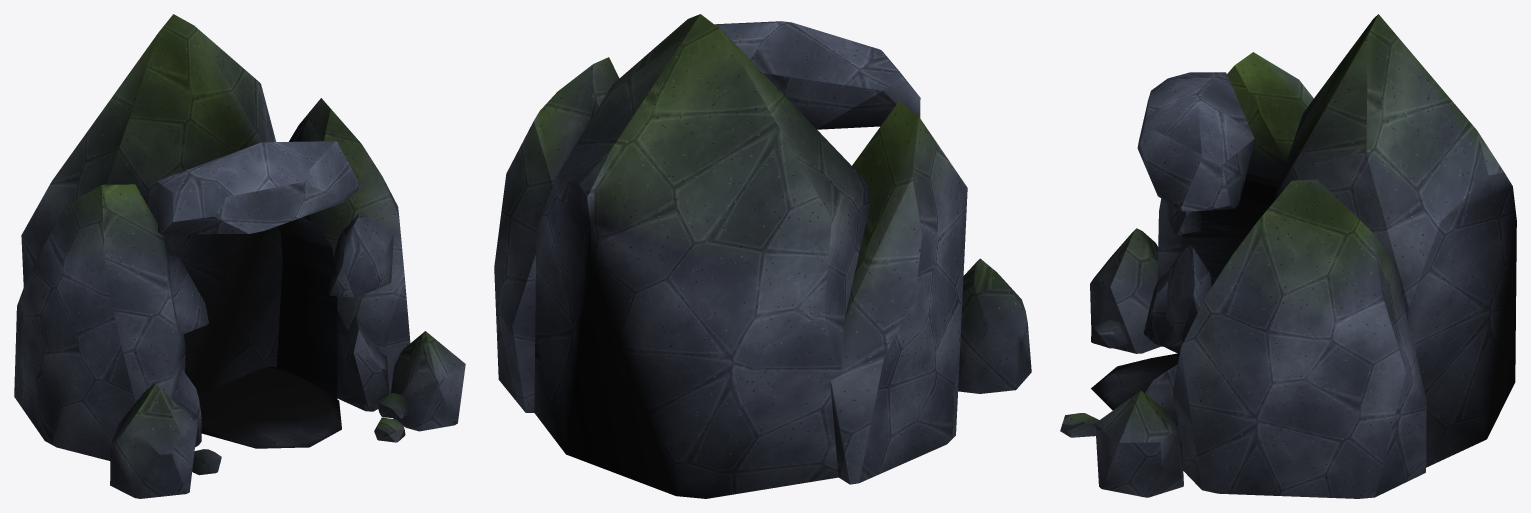
Rendered from cave_mouth_lod1.glb.
3 views of the same model, side by side, from view 1: azimuth 30°, elevation 25°; view 2: azimuth 150°, elevation 25°; view 3: azimuth 270°, elevation 25° (orthographic). The views are drawn at different scales.
Visible parts, largest first — view 1: cave_mouth_lod1; view 2: cave_mouth_lod1; view 3: cave_mouth_lod1.
Boxes of the visible parts, x1=… form: cave_mouth_lod1: x1=14, y1=14, x2=465, y2=498; cave_mouth_lod1: x1=494, y1=14, x2=1031, y2=498; cave_mouth_lod1: x1=1060, y1=14, x2=1516, y2=498.
Bounding box in the file's own units: 3.02 × 2.94 × 3.12.
2 materials, 1 textured.
